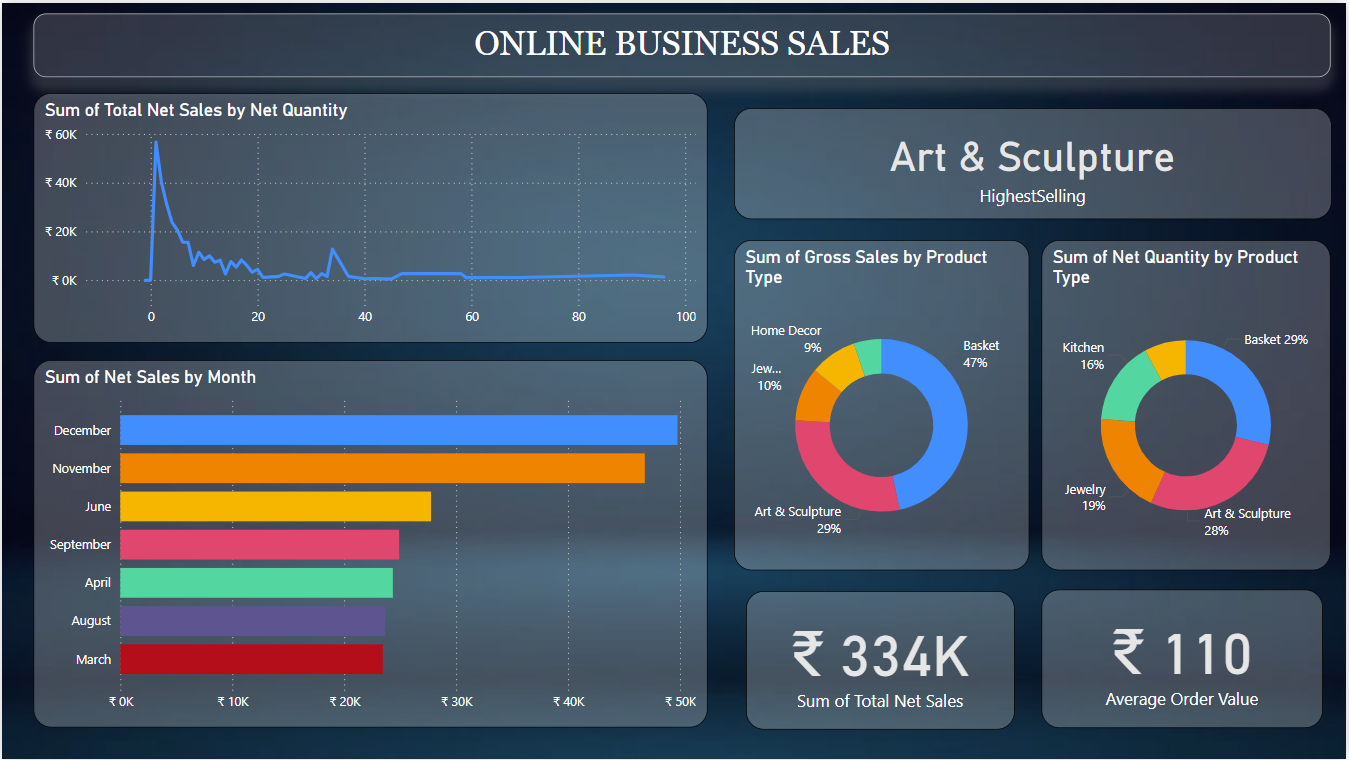

The dashboard page shown, as its layout file describes it:
{"tool":"powerbi","page":{"name":"Page 1","canvas":[1280,720],"ordinal":0},"visuals":[{"type":"textbox","box":[30.3,10.6,1235.6,60.6],"z":0},{"type":"barChart","fields":{"Category":["Retails.Month"],"Y":["Sum(Retails.Net Sales)"]},"box":[30.3,340.7,642,349.8],"z":1},{"type":"lineChart","fields":{"Y":["Sum(Sales.Total Net Sales)"],"Category":["Sales.Net Quantity"]},"box":[30.3,86.3,642,237.7],"z":2},{"type":"card","fields":{"Values":["Sum(Sales.Total Net Sales)"]},"box":[708.6,560.3,255.9,131.7],"z":3},{"type":"card","fields":{"Values":["Retails.AOV"]},"box":[990.3,558.7,268,131.7],"z":4},{"type":"donutChart","fields":{"Category":["Sales.Product Type"],"Y":["Sum(Sales.Gross Sales)"]},"box":[696.5,225.6,281.6,315],"z":5},{"type":"donutChart","fields":{"Category":["Sales.Product Type"],"Y":["Sum(Sales.Net Quantity)"]},"box":[990.3,225.6,275.6,315],"z":6},{"type":"card","fields":{"Values":["Retails.HighestSellingProduct"]},"box":[696.5,99.9,569.3,106],"z":7}]}

Visuals, with their boxes in screenshot pixels (x1, y1, x2, y2), scaled from the page's 1280x720 canvas onto the 1349x760 screenshot:
textbox: 32, 11, 1334, 75
barChart - Retails.Month x Sum(Retails.Net Sales): 32, 360, 709, 729
lineChart - Sum(Sales.Total Net Sales) x Sales.Net Quantity: 32, 91, 709, 342
card - Sum(Sales.Total Net Sales): 747, 591, 1016, 730
card - Retails.AOV: 1044, 590, 1326, 729
donutChart - Sales.Product Type x Sum(Sales.Gross Sales): 734, 238, 1031, 571
donutChart - Sales.Product Type x Sum(Sales.Net Quantity): 1044, 238, 1334, 571
card - Retails.HighestSellingProduct: 734, 105, 1334, 217
